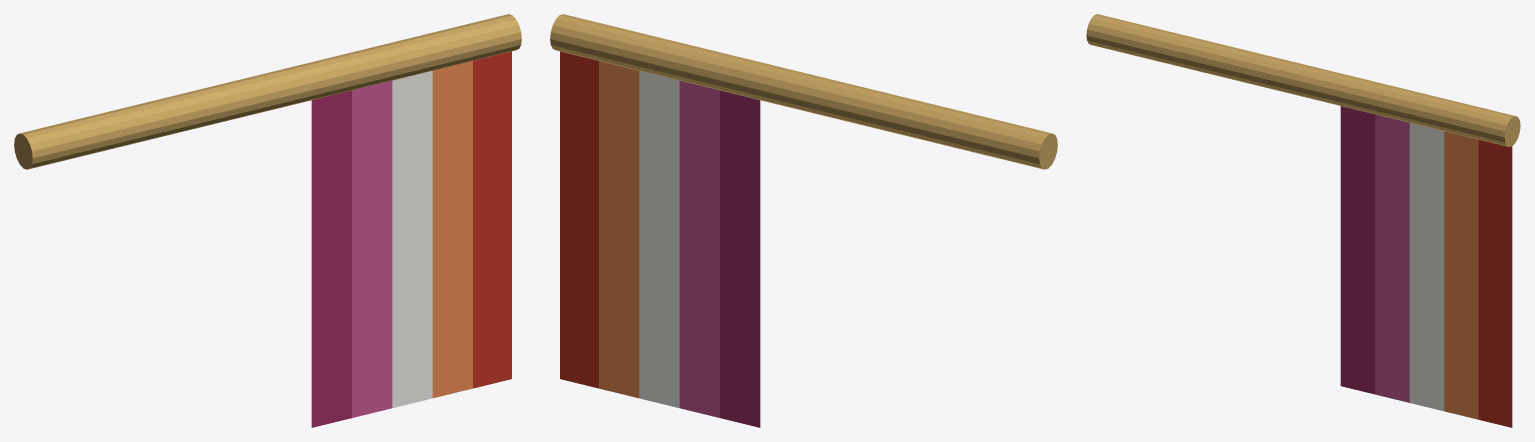
The model's file is lesbianFlag.fbx.
The picture shows the model from 3 angles, left to right: view 1: azimuth 30°, elevation 25°; view 2: azimuth 150°, elevation 25°; view 3: azimuth 330°, elevation 25°; orthographic projection. The views are drawn at different scales.
Parts seen in each view (by area): view 1: Cylinder, Plane.004, Plane.002, Plane.001, Plane.003, Plane; view 2: Cylinder, Plane.004, Plane.002, Plane.001, Plane.003, Plane; view 3: Cylinder, Plane.004, Plane.002, Plane, Plane.001, Plane.003.
Boxes of the visible parts, box(x1,y1,x2,y2) form: Cylinder: box(14, 14, 521, 169); Plane.004: box(311, 90, 351, 427); Plane.002: box(392, 71, 432, 407); Plane.001: box(432, 61, 472, 398); Plane.003: box(352, 81, 392, 417); Plane: box(473, 51, 511, 388); Cylinder: box(550, 14, 1057, 169); Plane.004: box(720, 90, 760, 427); Plane.002: box(639, 71, 679, 407); Plane.001: box(599, 61, 639, 398); Plane.003: box(679, 81, 719, 417); Plane: box(560, 51, 598, 388); Cylinder: box(1086, 14, 1520, 146); Plane.004: box(1340, 106, 1375, 394); Plane.002: box(1409, 123, 1444, 411); Plane: box(1478, 140, 1512, 427); Plane.001: box(1444, 131, 1478, 419); Plane.003: box(1375, 114, 1409, 402).
Bounding box in the file's own units: 96.55 × 68.57 × 6.37.
